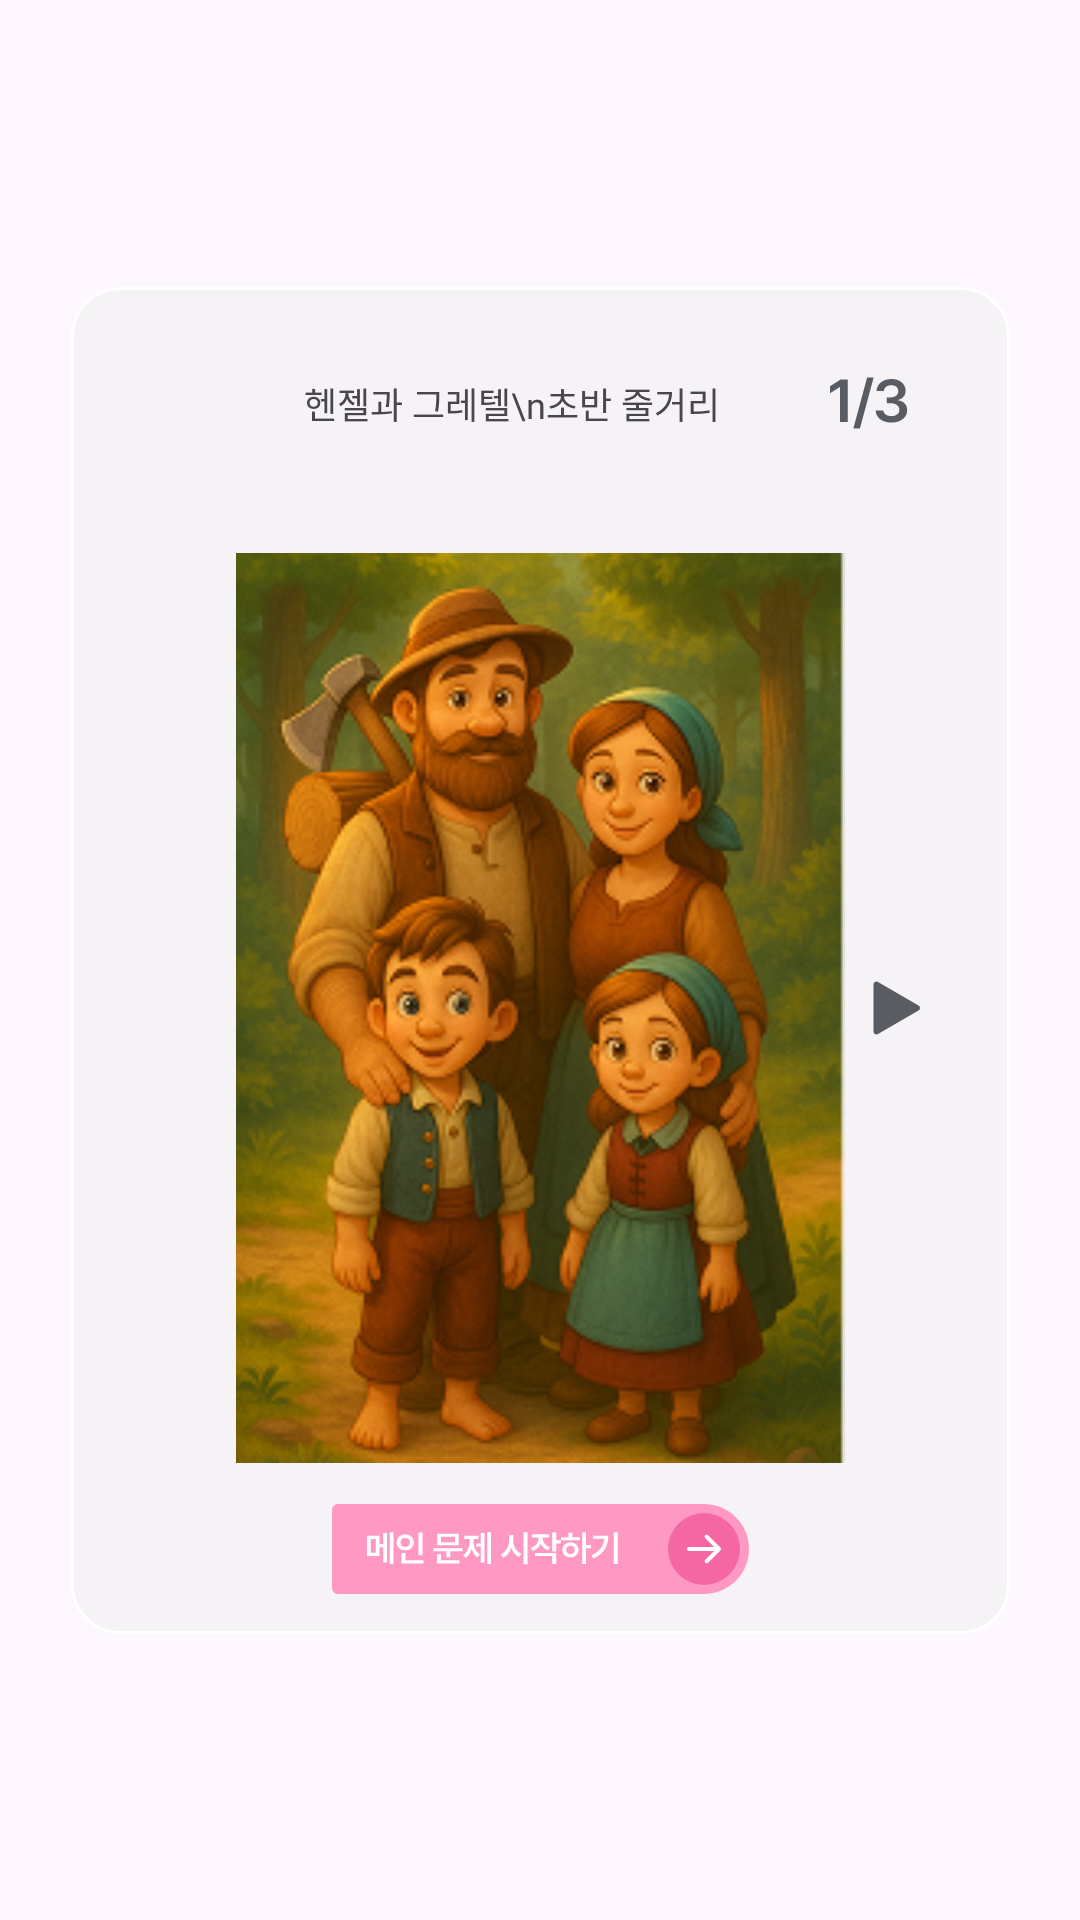

Locate icon controls on the screen. Image size 1080*1920, boxes as box(x1, y1, x2, y2).
story next: box(873, 981, 920, 1035)
